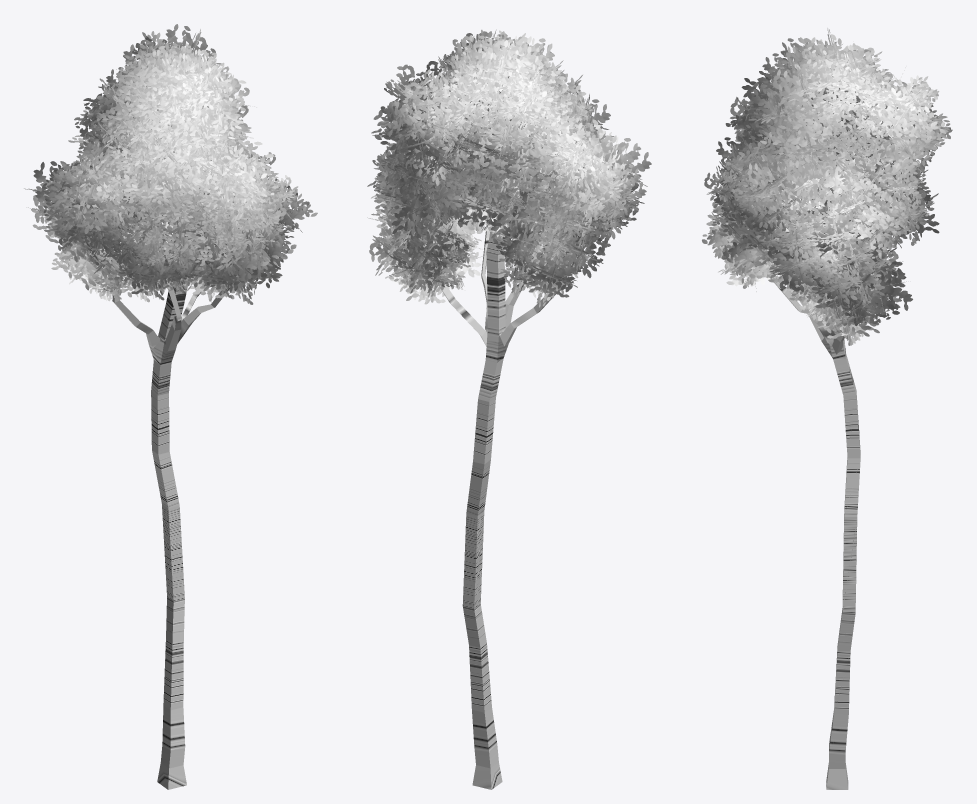
File: TallTree01.fbx
3 views of the same model, side by side, from view 1: azimuth 30°, elevation 25°; view 2: azimuth 150°, elevation 25°; view 3: azimuth 270°, elevation 25° (orthographic).
Visible parts, largest first — view 1: TallTree01_LOD0; view 2: TallTree01_LOD0; view 3: TallTree01_LOD0.
Boxes of the visible parts, x1,y1,x2,y2 form: TallTree01_LOD0: (24, 24, 317, 789); TallTree01_LOD0: (367, 29, 651, 789); TallTree01_LOD0: (702, 28, 952, 789).
Size of what is drawn, in the model's own units: 485 by 1237 by 402.
2 materials, 2 textured.
